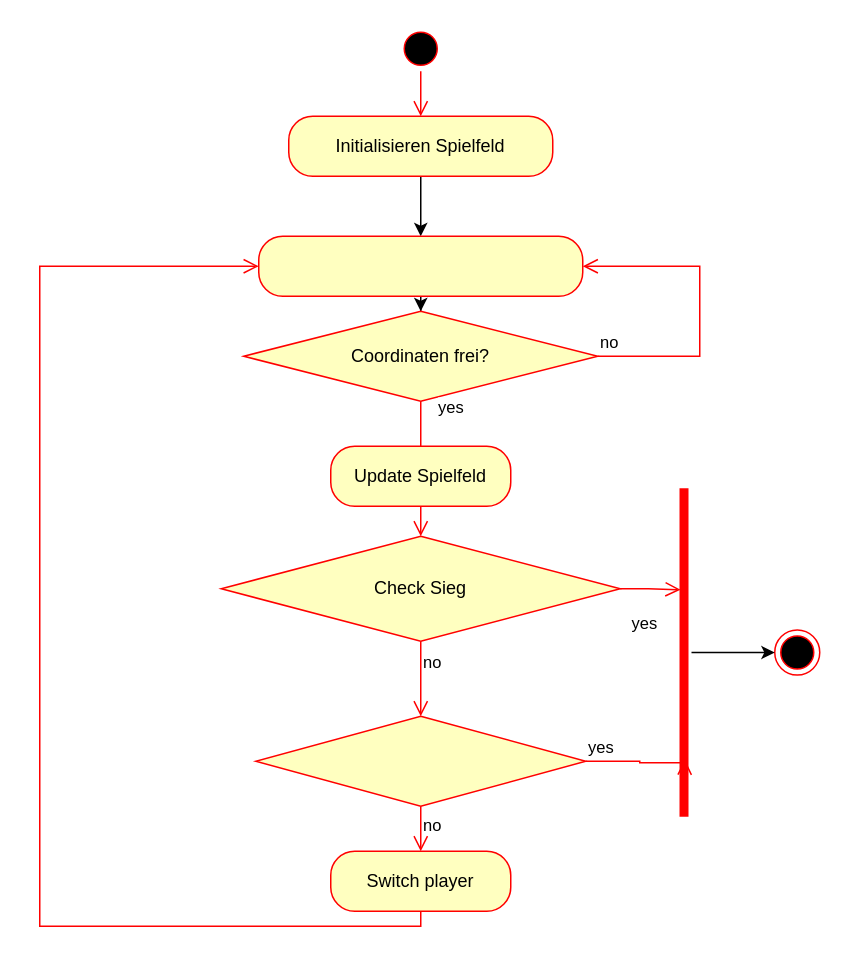
This 846x968 diagram has some shape labels left out. The shapes that lost their labels are listed below. From the top down, each one's centre as x and y in pixels, then its label:
pixel 420 265: input coordinates
pixel 420 760: Check Spielfeld voll
